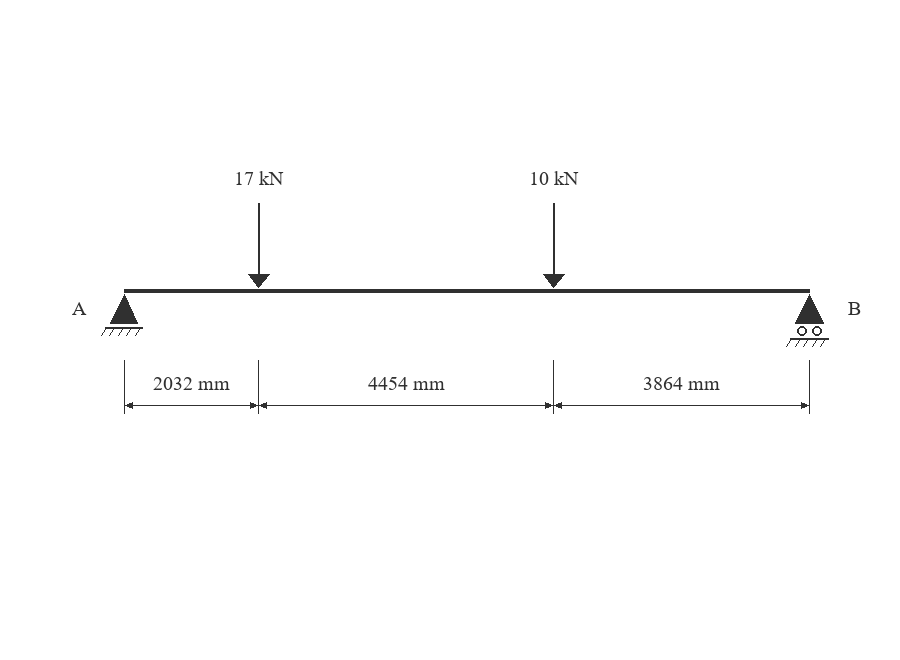pin_support: (101, 294, 143, 336)
point_load: (248, 203, 270, 288), (543, 203, 565, 288)
roller_support: (786, 294, 829, 347)
